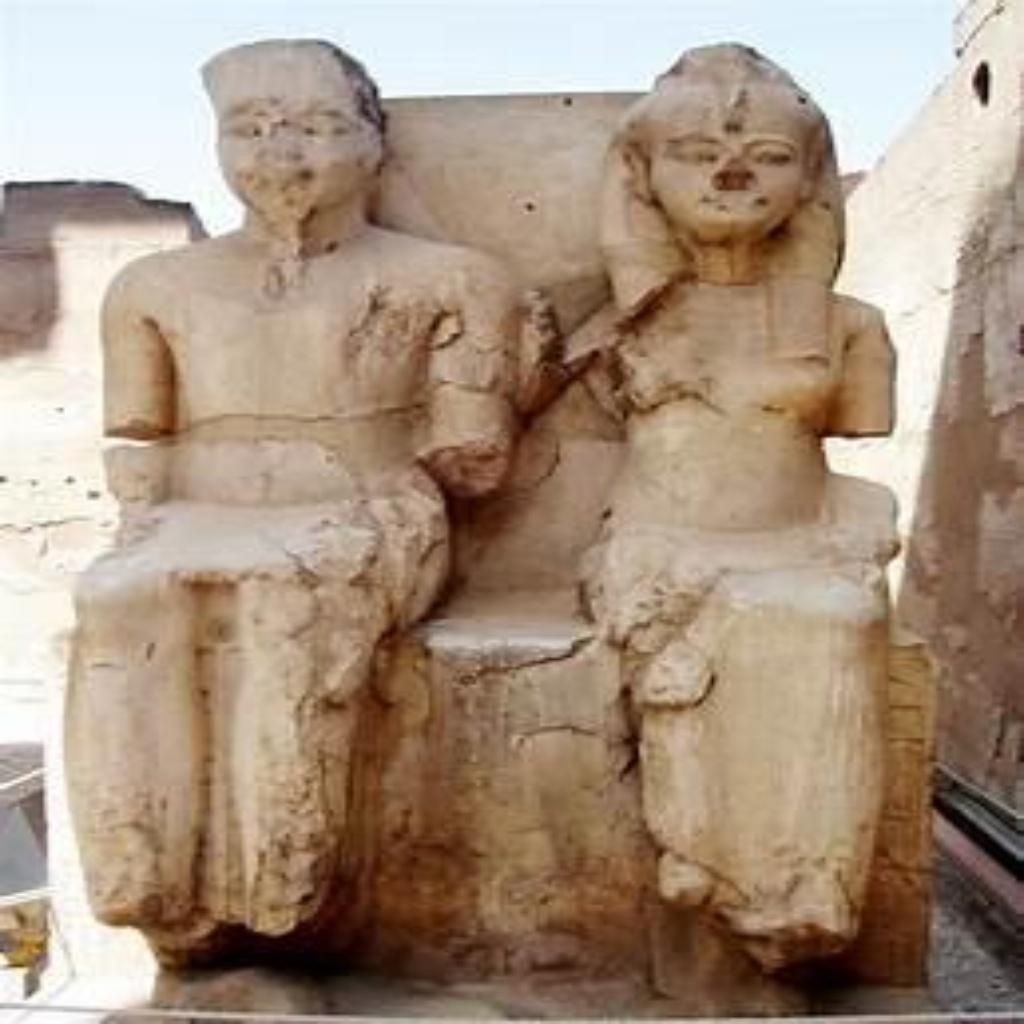Statue of Ankhesenamun: (534, 38, 904, 956)
Statue of Tutankhamun: (62, 32, 518, 930)
